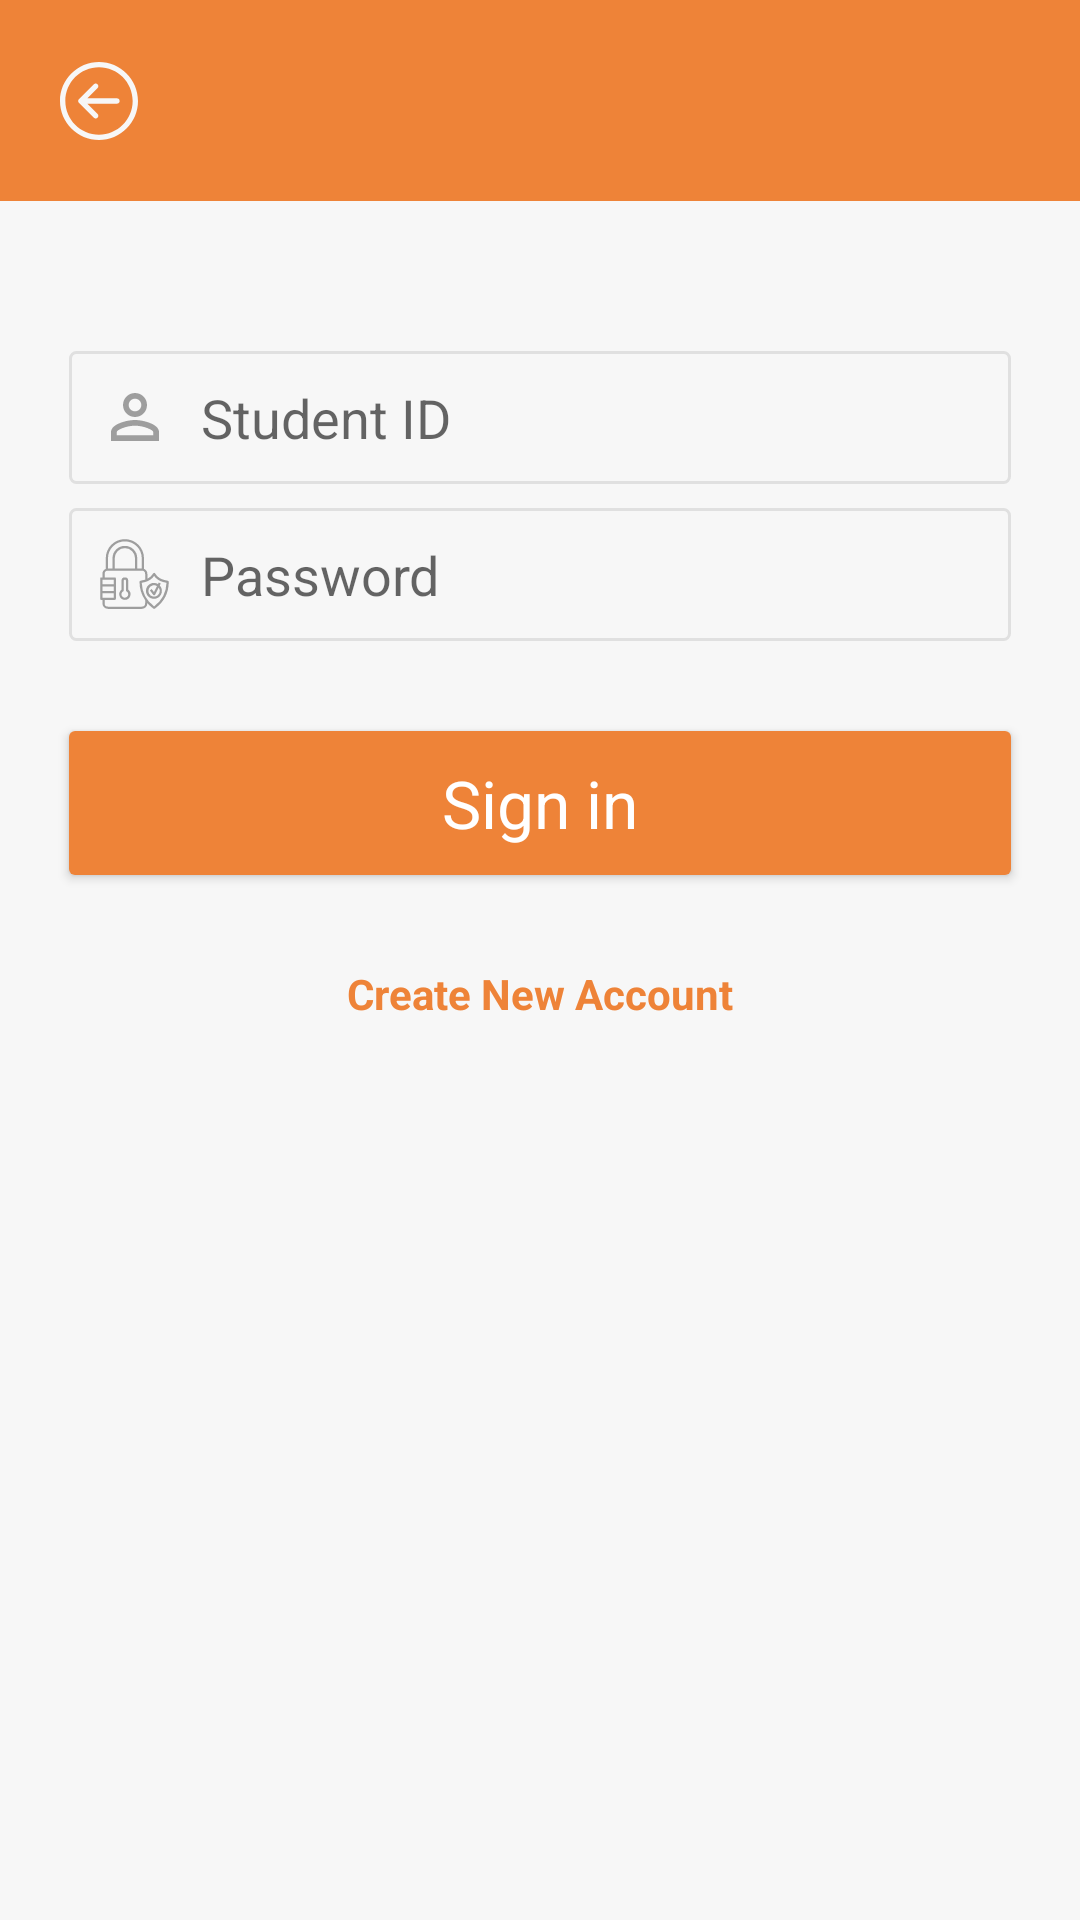

Named icons in this screenshot (1080 x 1920) and their centers, (x=x, y=y):
back: (x=99, y=101)
